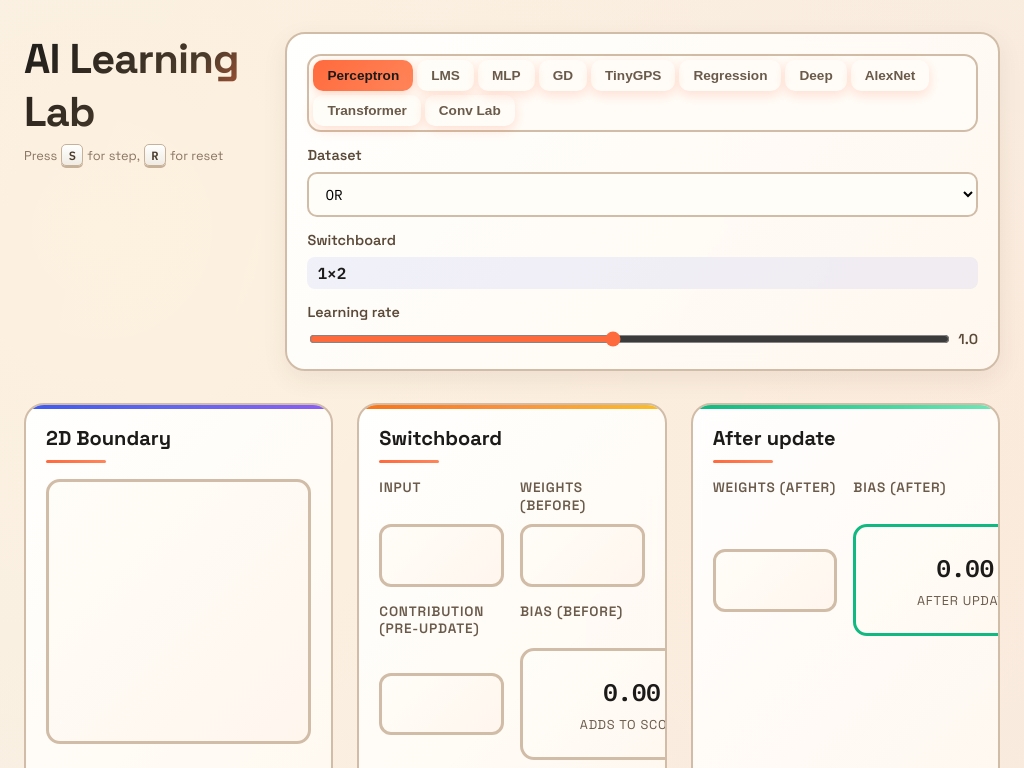
Test: shows custom dataset editor
This screenshot has width=1024, height=768.
Select "Custom" in the dropdown labelled "Dataset" at x=643, y=194, box x1=308 y1=172 x2=978 y2=217
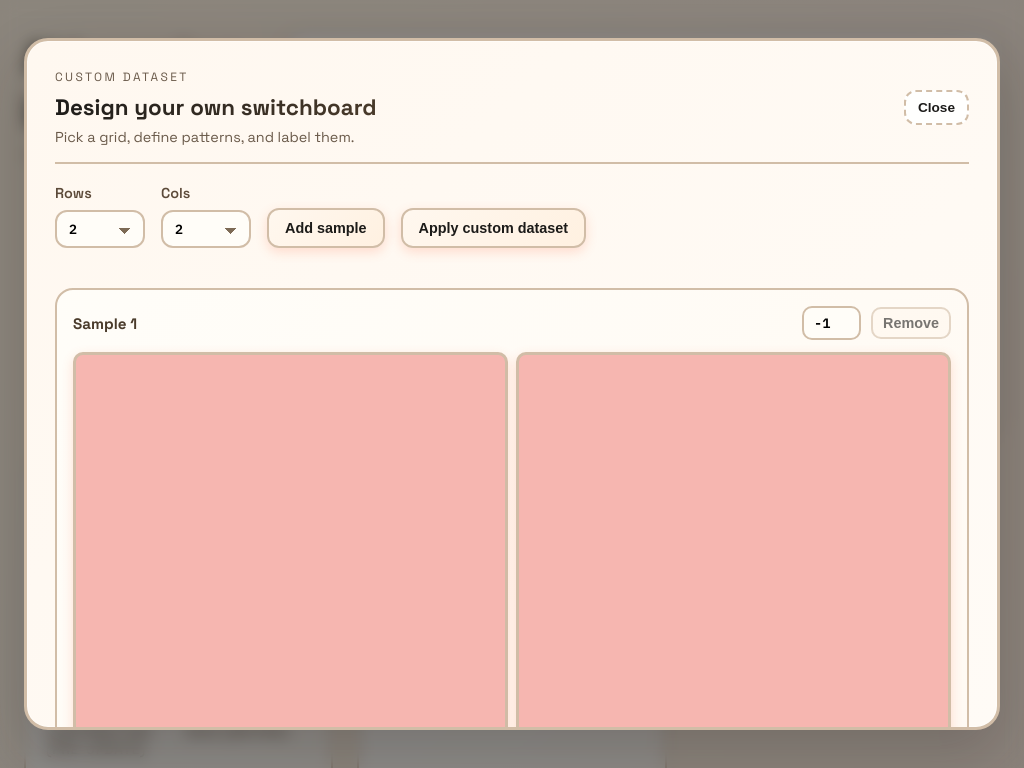
Check: the dialog is shown
Click the button "Close".
click(936, 108)  # box x1=904 y1=90 x2=969 y2=125
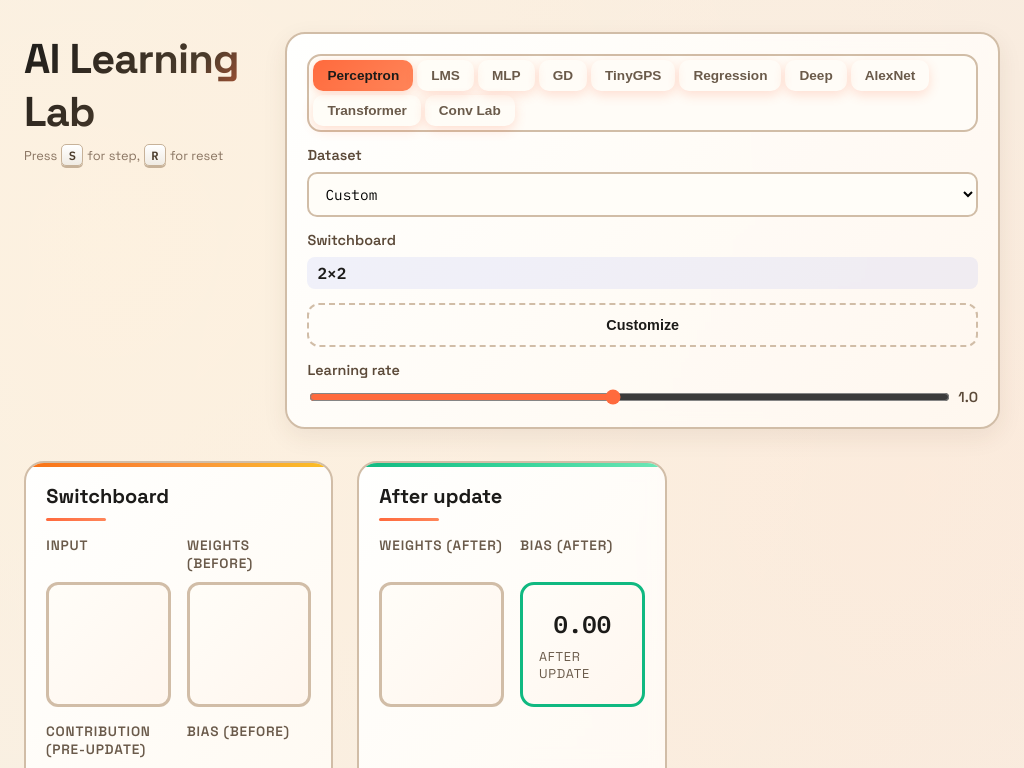
Check: the dialog is gone
